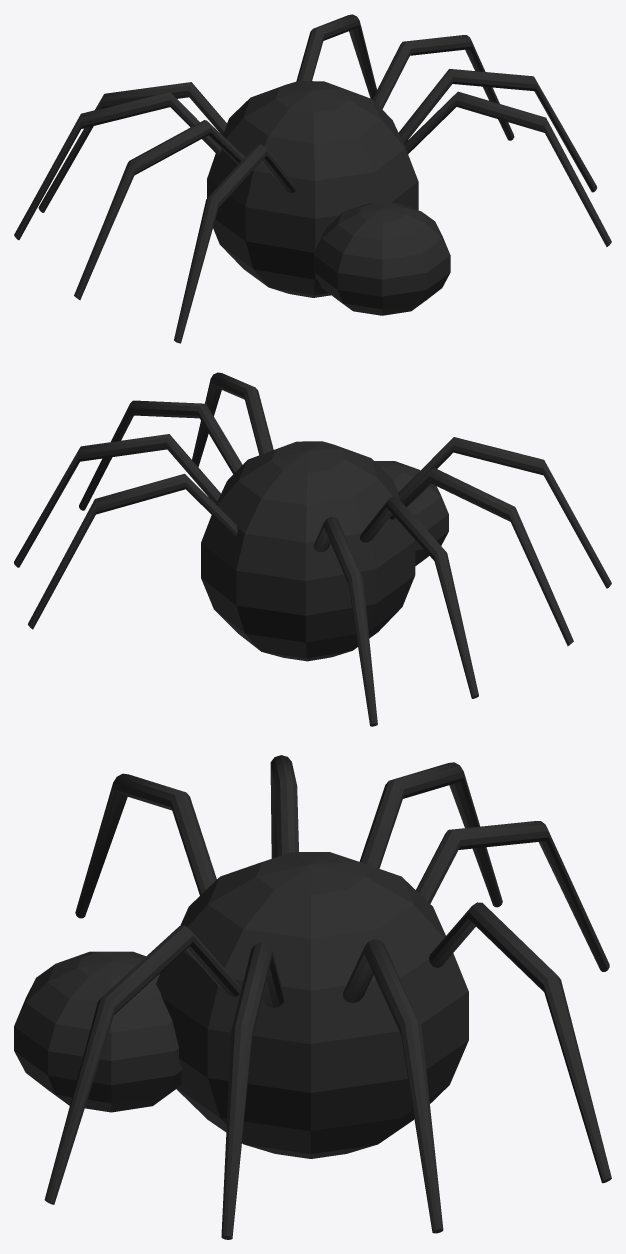
File: Spider.fbx
The picture shows the model from 3 angles, top to bottom: view 1: azimuth 30°, elevation 25°; view 2: azimuth 150°, elevation 25°; view 3: azimuth 270°, elevation 25°; orthographic projection. The views are drawn at different scales.
Parts seen in each view (by area): view 1: pSphere14; view 2: pSphere14; view 3: pSphere14.
Part boxes in pixels (x1,y1,x2,y2): pSphere14: (14, 14, 611, 343); pSphere14: (14, 372, 611, 726); pSphere14: (14, 755, 611, 1239).
Size of the model in its own units: 19.39 by 7.47 by 13.97.
